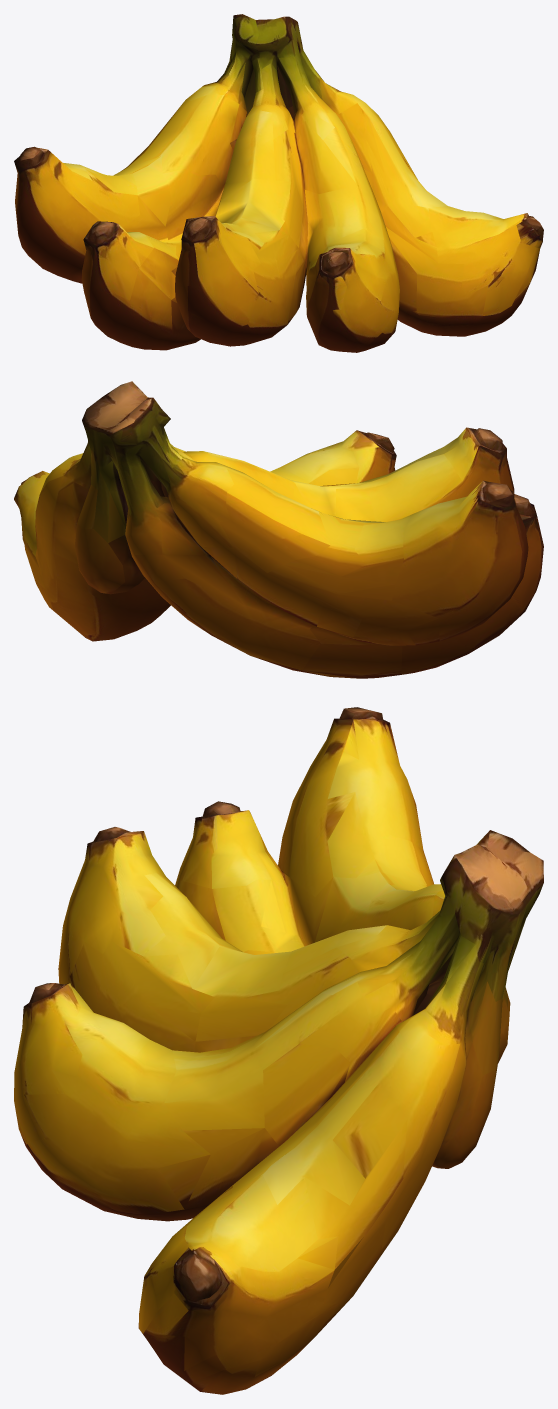
File: bananaB.glb
3 views of the same model, one above another, from view 1: azimuth 30°, elevation 25°; view 2: azimuth 150°, elevation 25°; view 3: azimuth 270°, elevation 25° (orthographic). The views are drawn at different scales.
Visible parts, largest first — view 1: BananaBMesh; view 2: BananaBMesh; view 3: BananaBMesh.
Boxes of the visible parts, x1,y1,x2,y2 form: BananaBMesh: (14, 14, 543, 352); BananaBMesh: (14, 381, 543, 678); BananaBMesh: (14, 707, 543, 1394).
Size of the model in its own units: 0.4634 by 0.2678 by 0.2851.
1 material, 1 textured.
